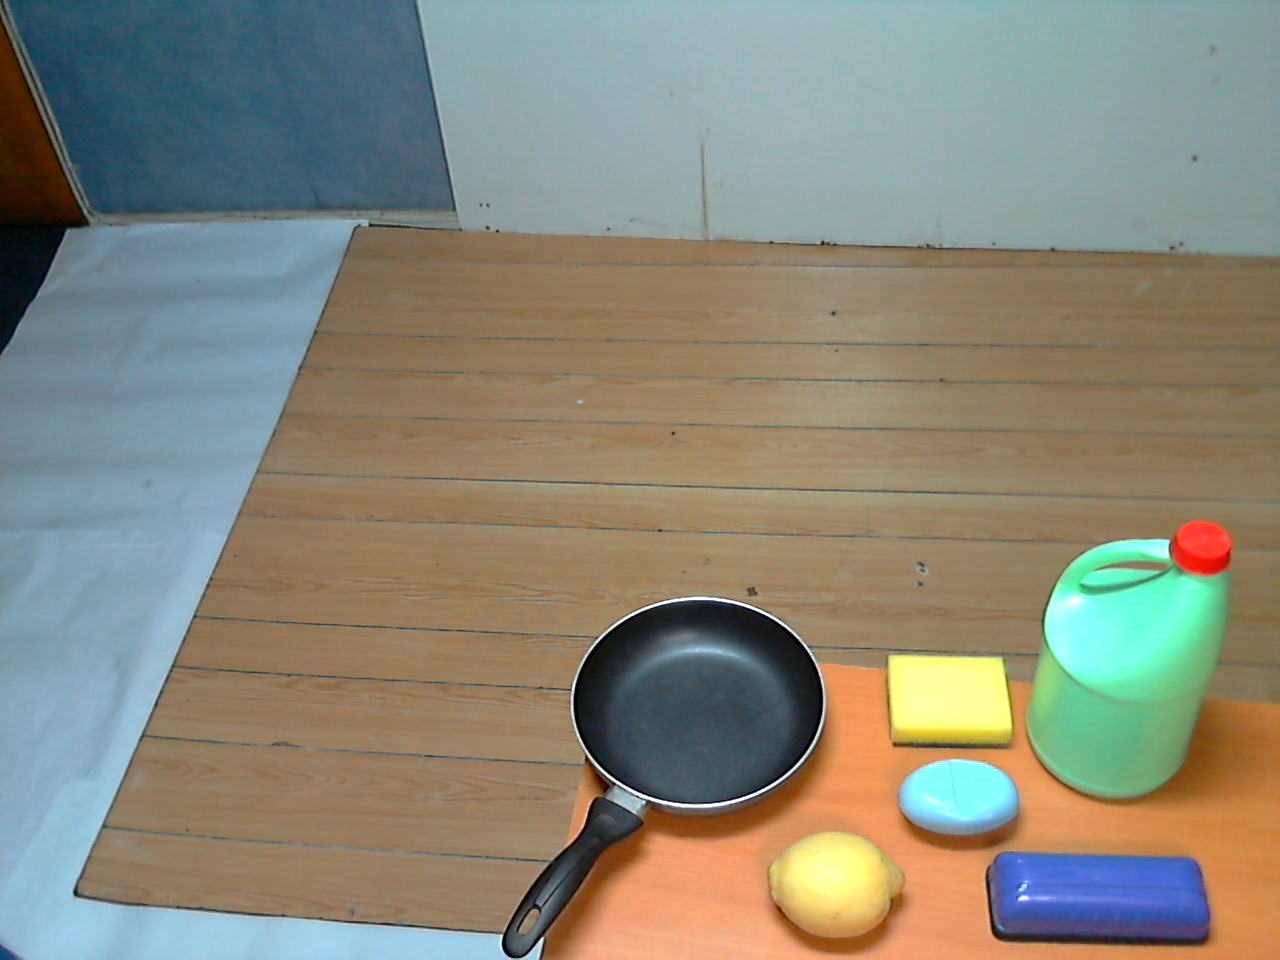borrador: (973, 834, 1232, 954)
cloroplano: (1017, 497, 1241, 814)
esponja: (876, 639, 1019, 759)
jabon: (888, 747, 1029, 854)
limon: (757, 810, 914, 953)
sarten: (464, 569, 842, 960)
